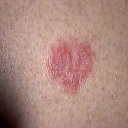Bowen: (50, 44, 92, 90)
